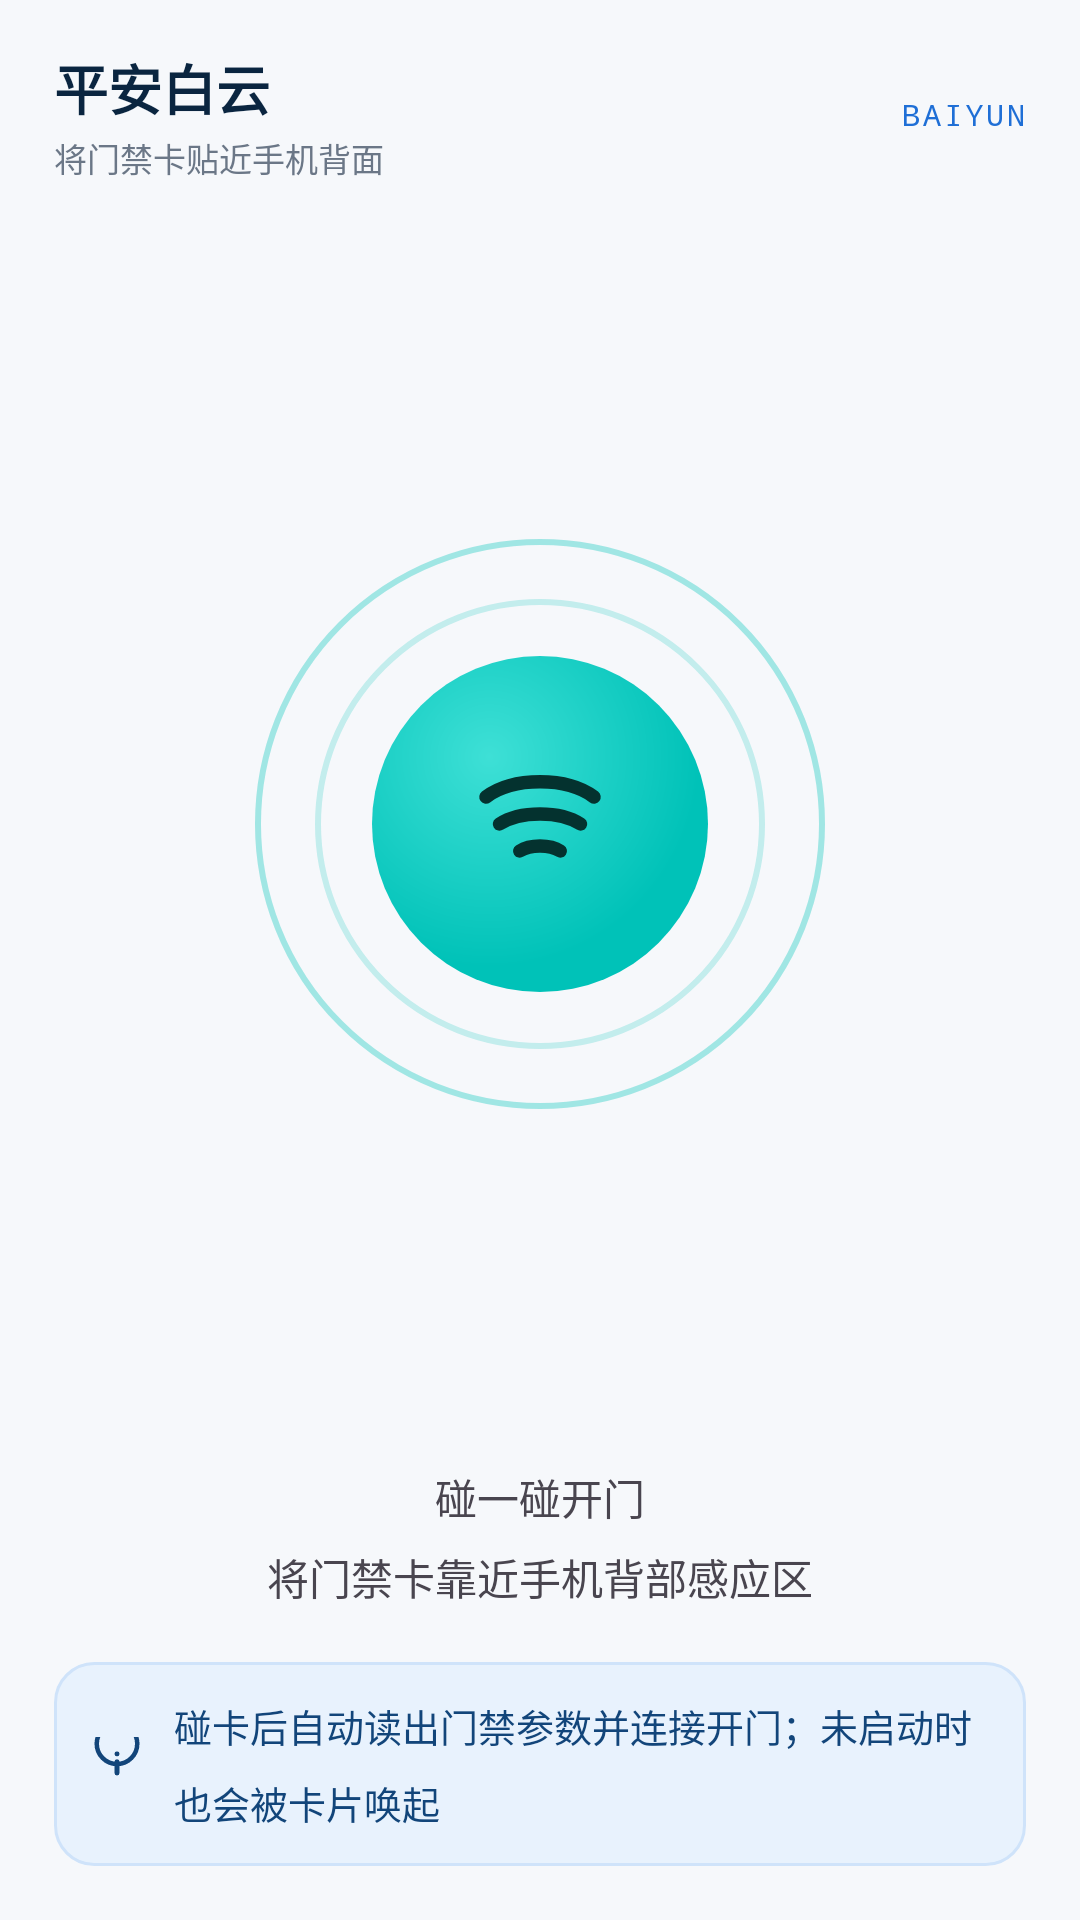

Icon bounding boxes for this 1080×1920 phone screenshot, format box=[x1, y1, x2, y2]:
碰卡: box=[459, 743, 601, 858]
